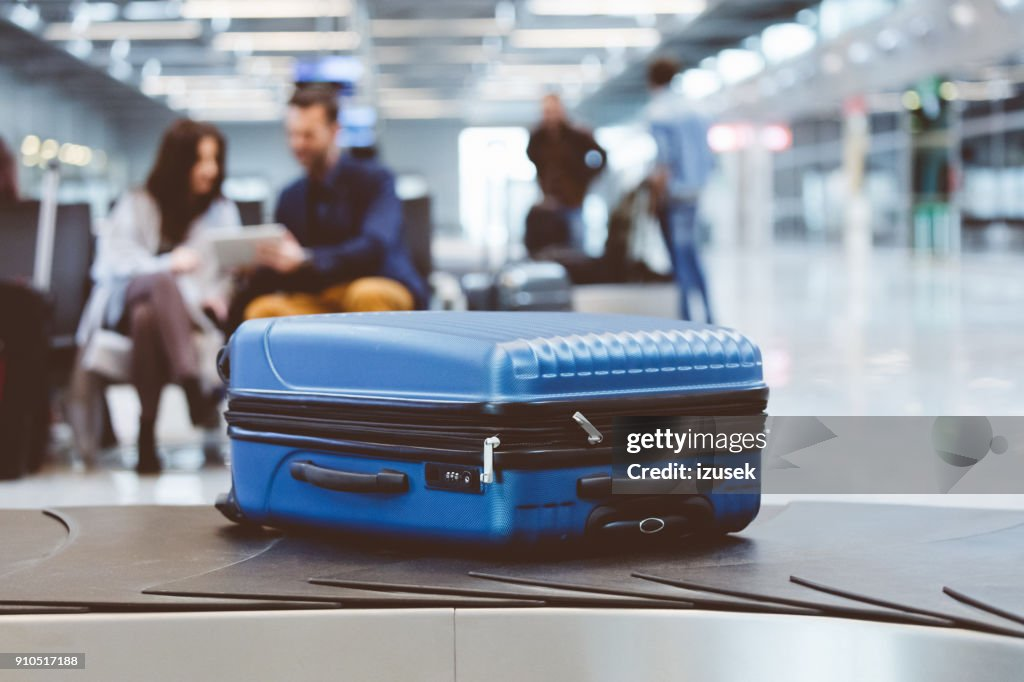baggage: (204, 301, 802, 566)
